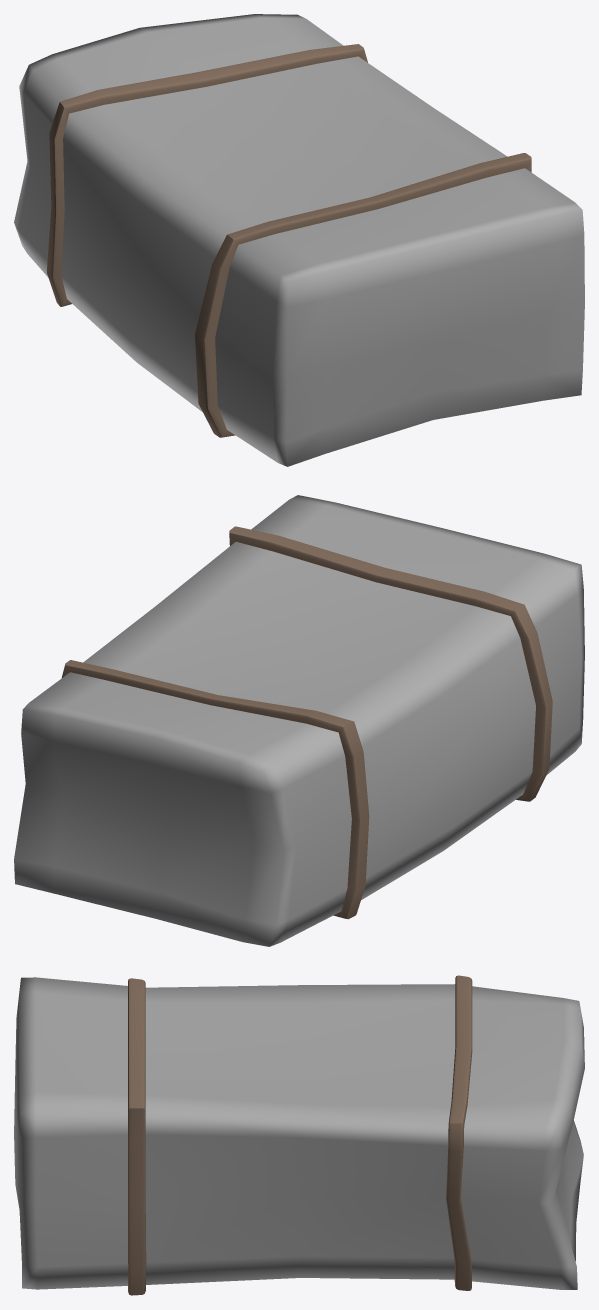
Rendered from SM_Haybale_Var2.fbx.
3 renders of one model, top to bottom at view 1: azimuth 30°, elevation 25°; view 2: azimuth 150°, elevation 25°; view 3: azimuth 270°, elevation 25°, orthographic. The views are drawn at different scales.
Visible parts, largest first — view 1: SM_Haybale_Var2; view 2: SM_Haybale_Var2; view 3: SM_Haybale_Var2.
Boxes of the visible parts, x1,y1,x2,y2 form: SM_Haybale_Var2: (14, 14, 584, 466); SM_Haybale_Var2: (14, 495, 584, 946); SM_Haybale_Var2: (14, 975, 584, 1295).
Size of the model in its own units: 65.08 by 38.64 by 100.
